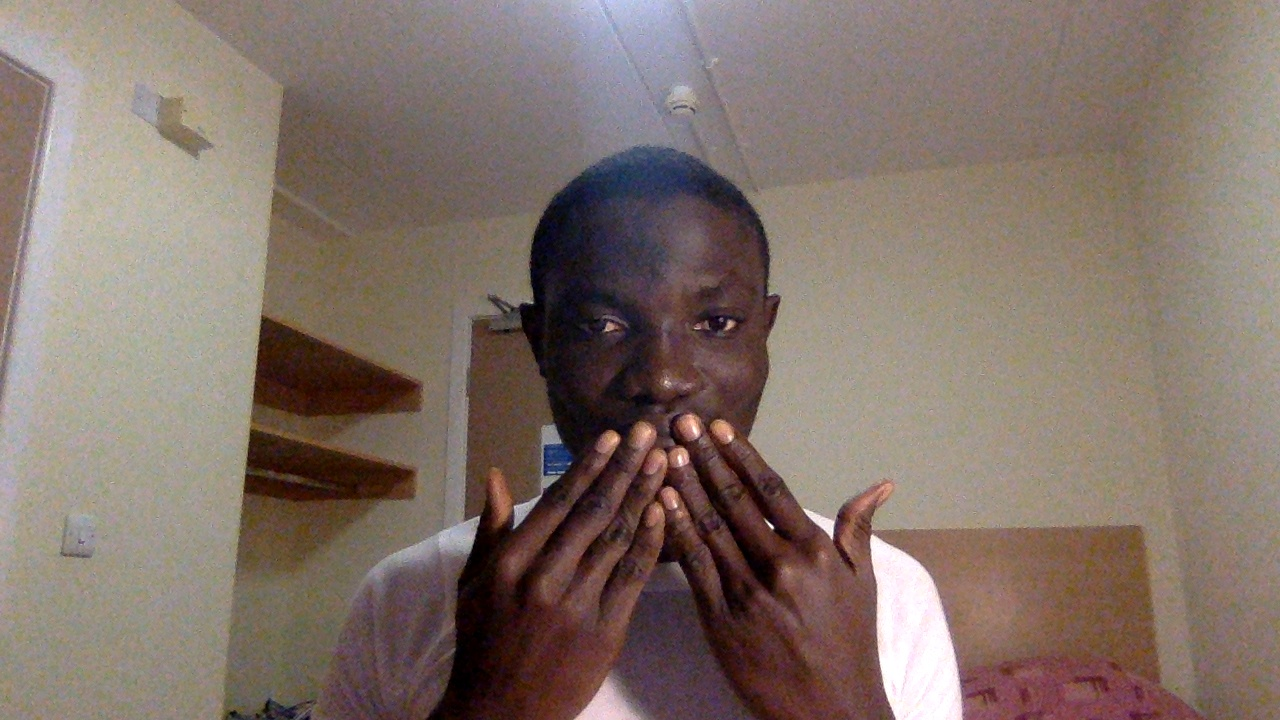Thank You: (450, 402, 905, 715)
